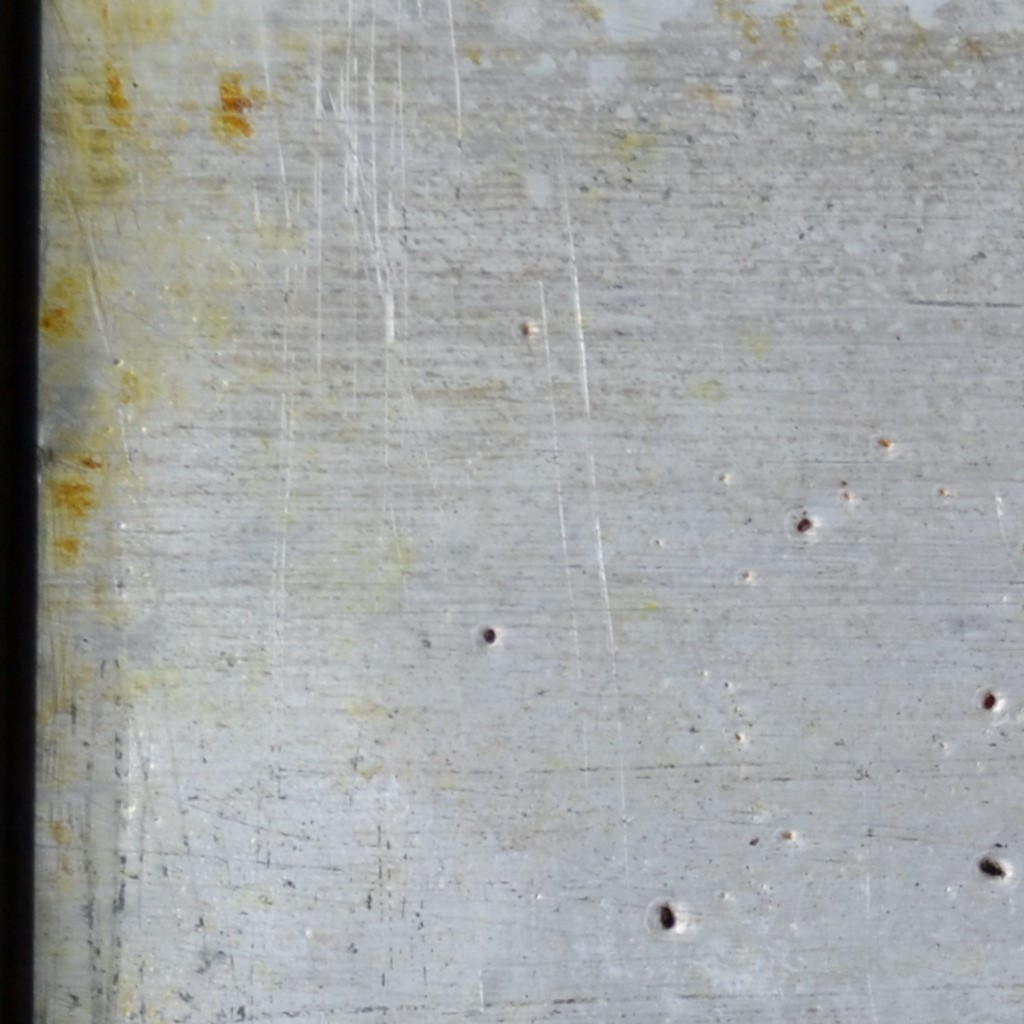varroa: (977, 855, 1002, 881), (978, 685, 999, 714), (789, 515, 815, 538), (658, 903, 677, 932), (480, 624, 498, 647)
